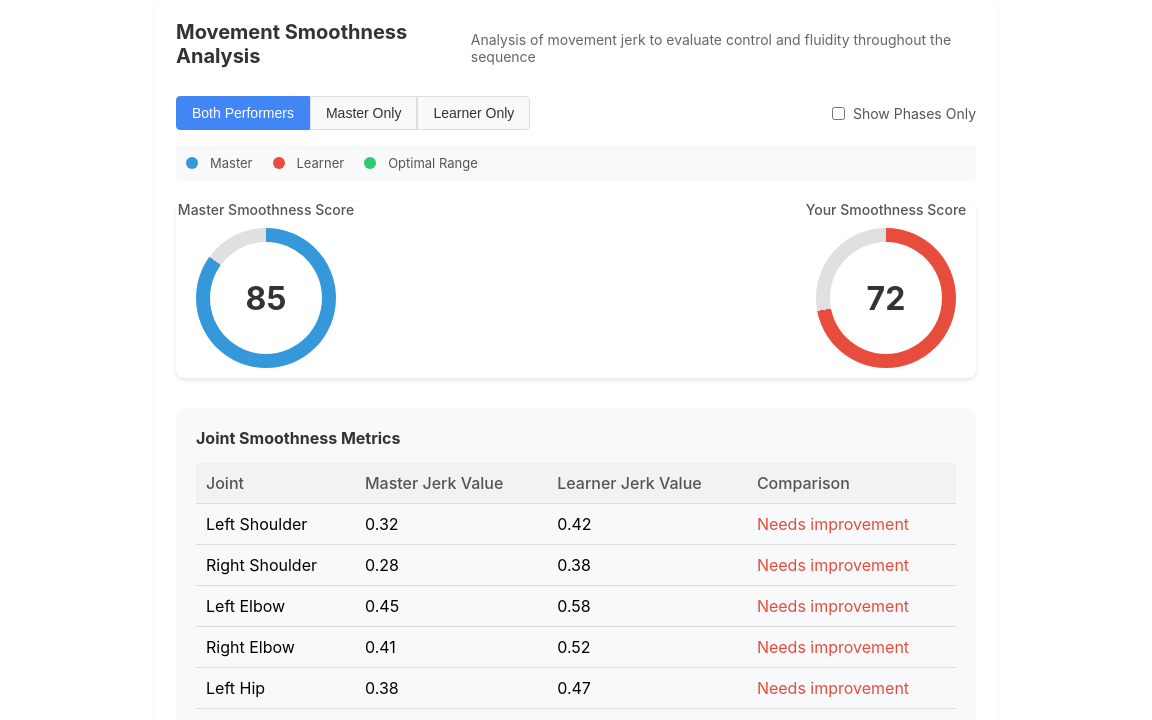
SmoothnessChart Component › Metrics Table › adjusts table columns based on display mode
Click the button "Master Only".
click(364, 113)  # box [310,96,417,130]
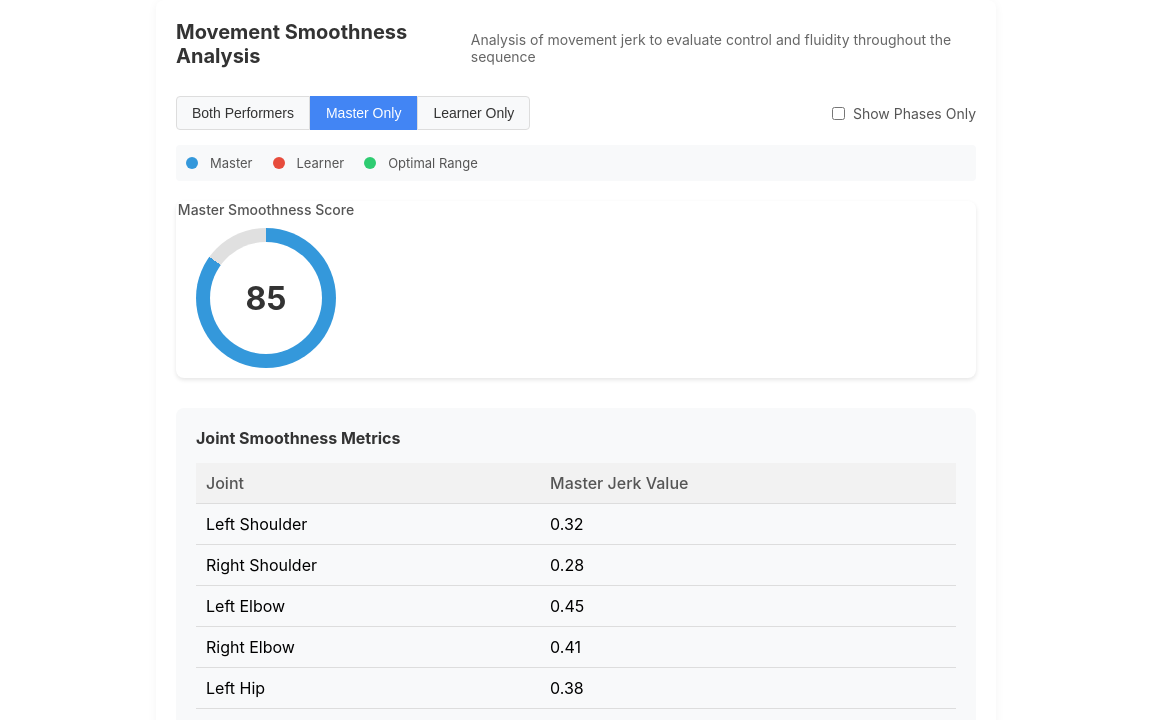
Expected: the column heading "Master Jerk Value" is shown, [540,463,956,504]
Expected: the column heading "Learner Jerk Value" is gone
Expected: the column heading "Comparison" is gone
